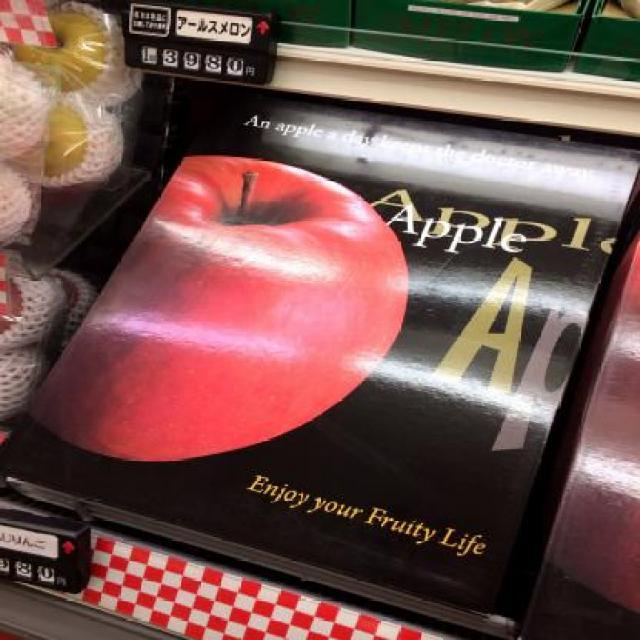Apple pie: (56, 169, 390, 466)
